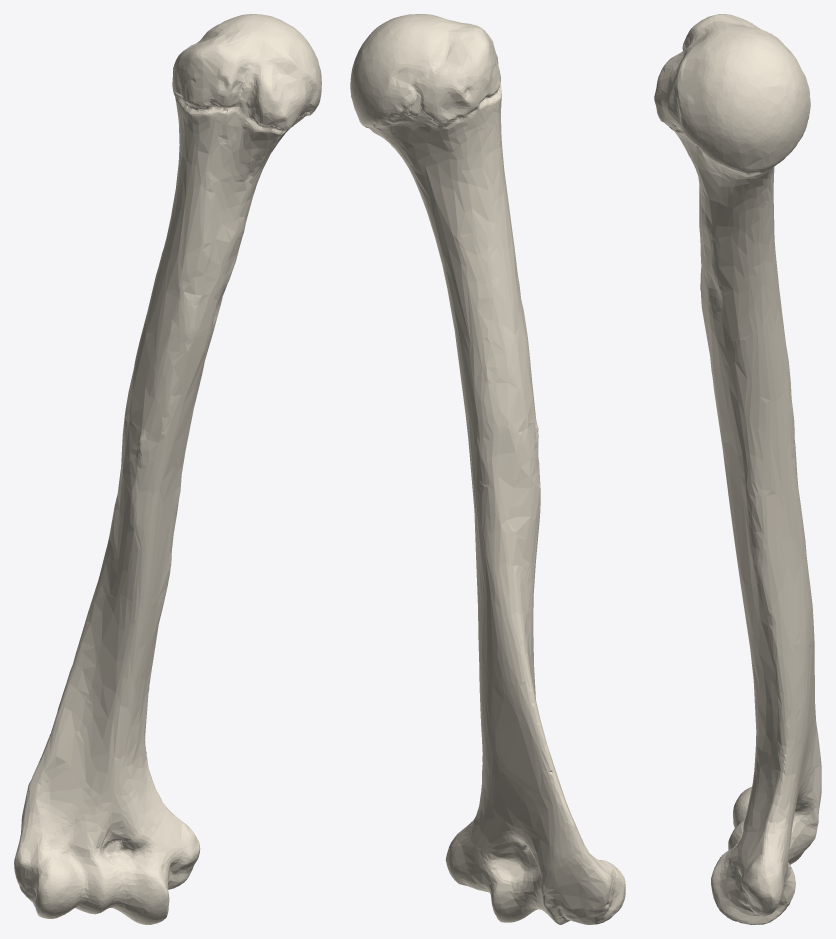
Rendered from humerus_right.glb.
3 views of the same model, side by side, from view 1: azimuth 30°, elevation 25°; view 2: azimuth 150°, elevation 25°; view 3: azimuth 270°, elevation 25° (orthographic). The views are drawn at different scales.
Bounding box in the file's own units: 0.1009 × 0.3075 × 0.0496.
